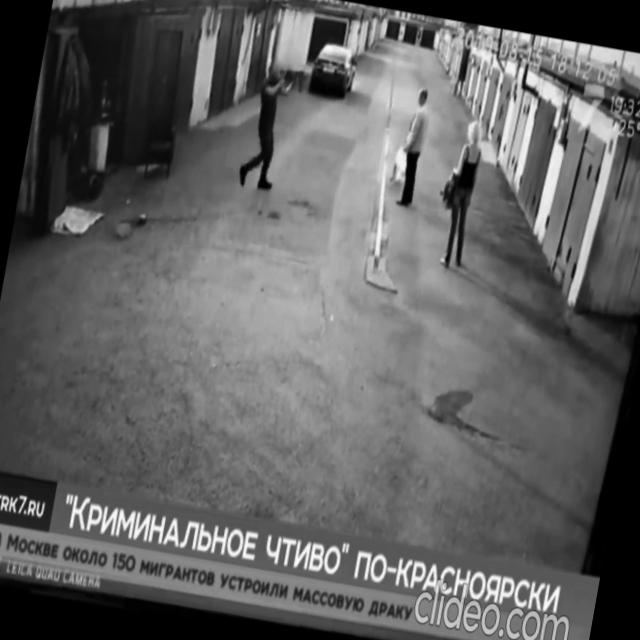gun: (278, 66, 312, 90)
person: (432, 116, 492, 274), (394, 84, 436, 210)
person with a gun: (235, 57, 312, 199)
